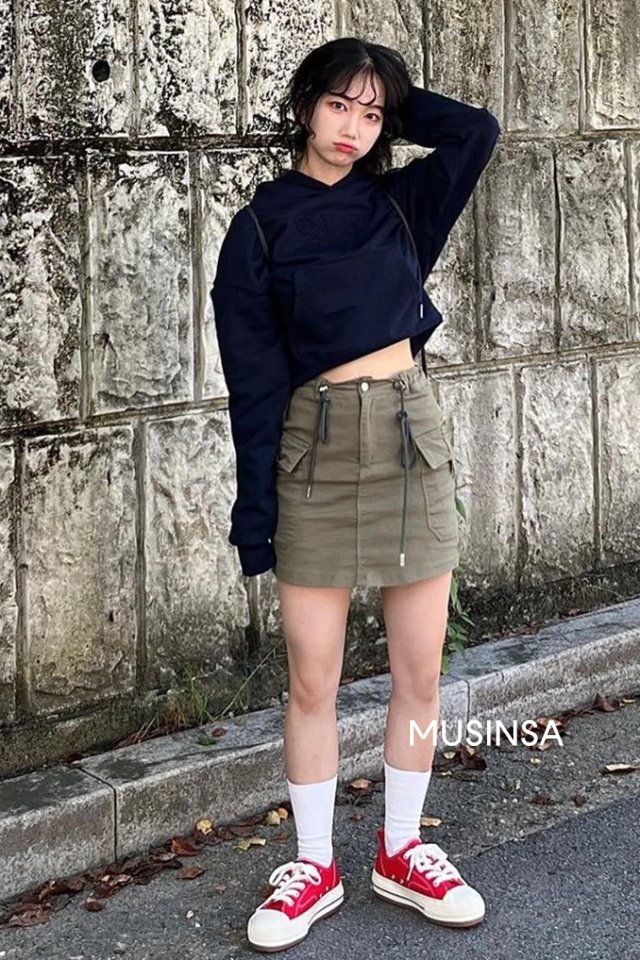Croptop: (207, 150, 461, 377)
Shoes: (241, 848, 499, 937)
Skirt: (267, 371, 479, 586)
